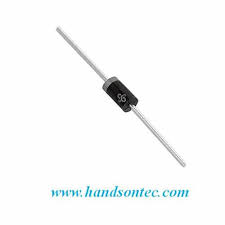diode: (88, 62, 160, 131)
